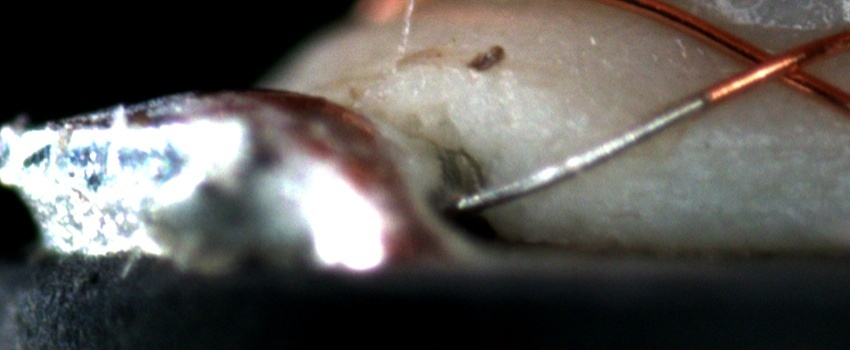CL: (725, 35, 824, 94)
DL: (654, 116, 850, 178)
TS: (449, 94, 710, 211)
